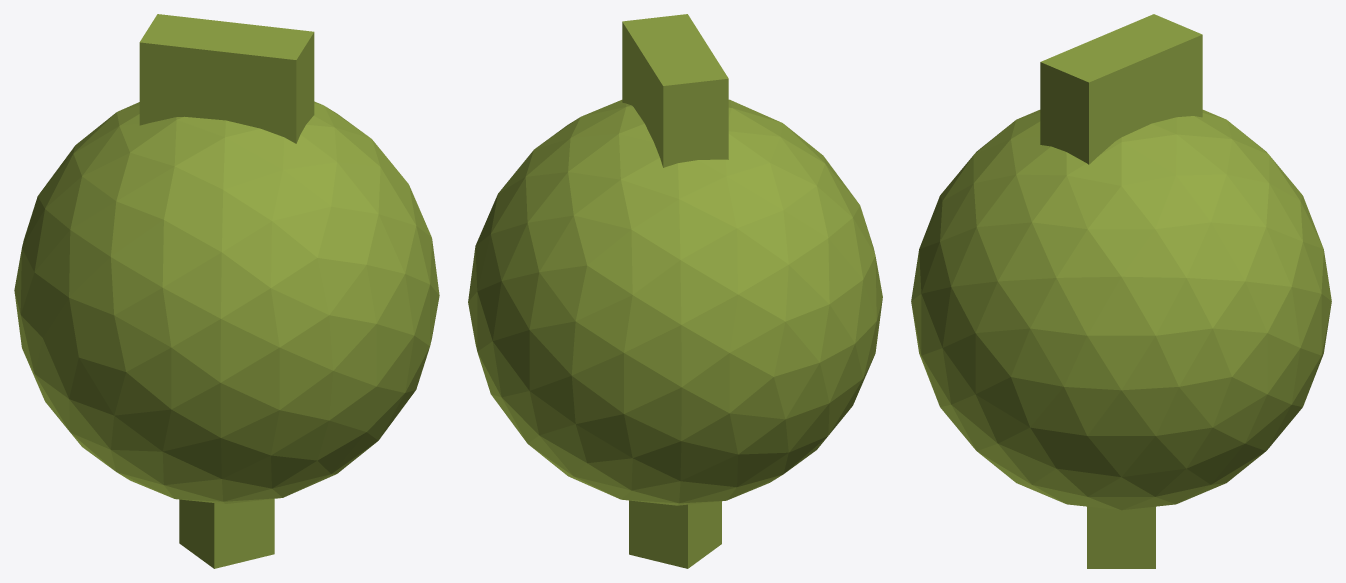
File: love_018.glb
3 renders of one model, left to right at view 1: azimuth 30°, elevation 25°; view 2: azimuth 150°, elevation 25°; view 3: azimuth 270°, elevation 25°, orthographic. The views are drawn at different scales.
Parts seen in each view (by area): view 1: world; view 2: world; view 3: world.
Boxes of the visible parts, x1,y1,x2,y2 form: world: (14, 14, 439, 568); world: (468, 14, 882, 568); world: (911, 14, 1331, 568).
Bounding box in the file's own units: 1.1 × 1.46 × 1.1.
